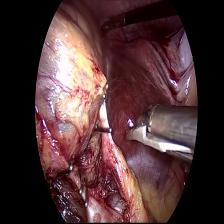Clipper: (120, 105, 196, 160)
Grasper: (96, 14, 128, 38)
